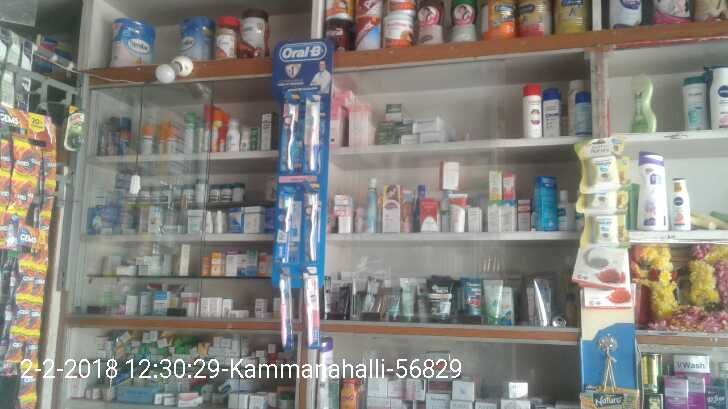oralb: (297, 270, 323, 344), (274, 183, 298, 259), (271, 274, 294, 345), (278, 98, 298, 172), (306, 96, 324, 176), (304, 188, 323, 258)
